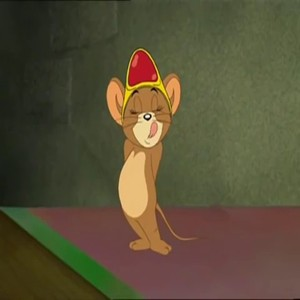Jerry: (100, 46, 190, 253)
